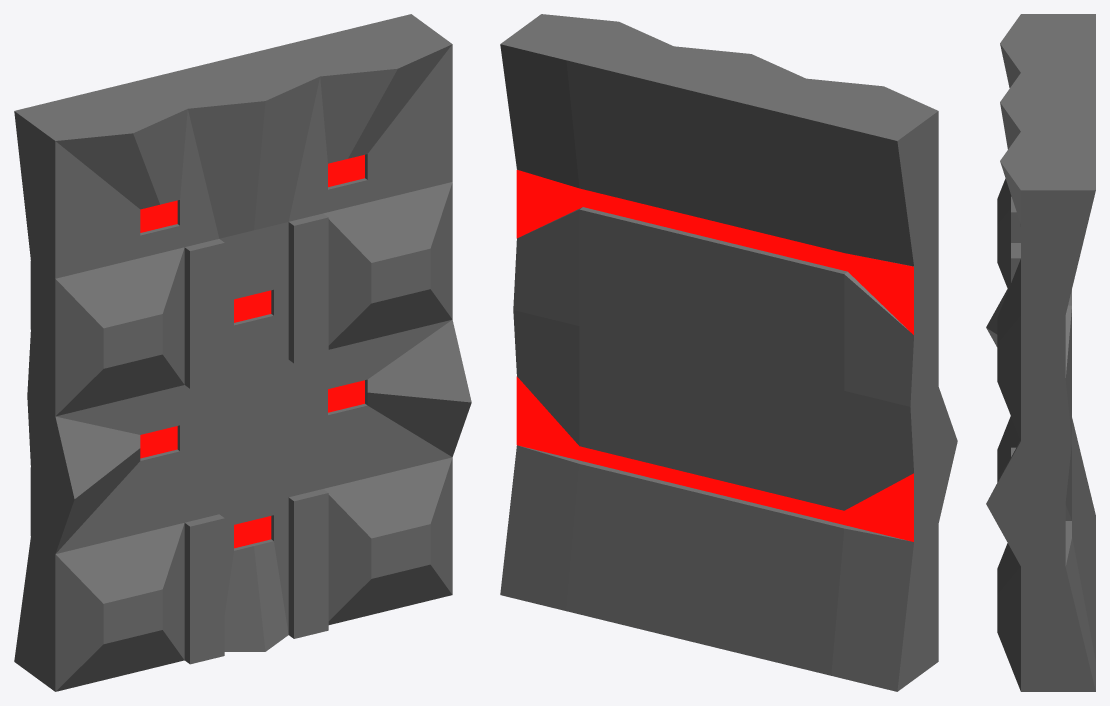
Rendered from mur.glb.
3 views of the same model, side by side, from view 1: azimuth 30°, elevation 25°; view 2: azimuth 150°, elevation 25°; view 3: azimuth 270°, elevation 25° (orthographic). The views are drawn at different scales.
Visible parts, largest first — view 1: Cube; view 2: Cube; view 3: Cube.
Boxes of the visible parts, x1,y1,x2,y2 form: Cube: (14,14,471,691); Cube: (500,14,957,691); Cube: (986,14,1095,691).
Size of the model in its own units: 4.45 by 5.9 by 1.17.
